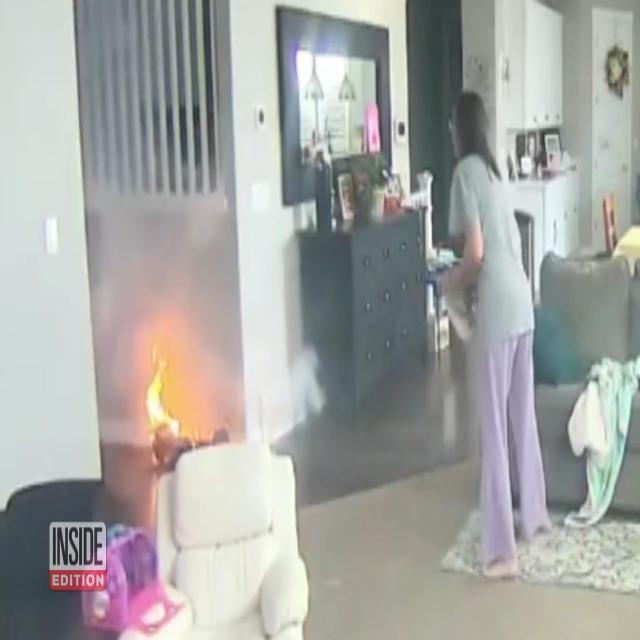fire: (146, 348, 180, 462)
